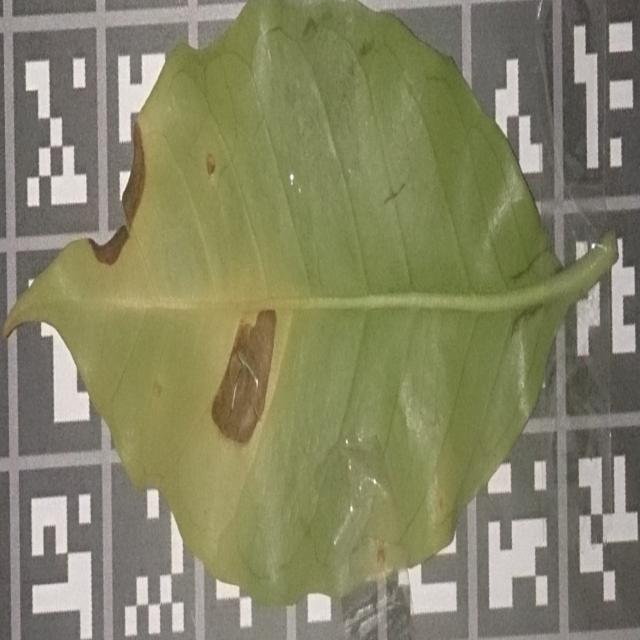Enfermedad-Mancha-de-hierro: (6, 0, 617, 610)
